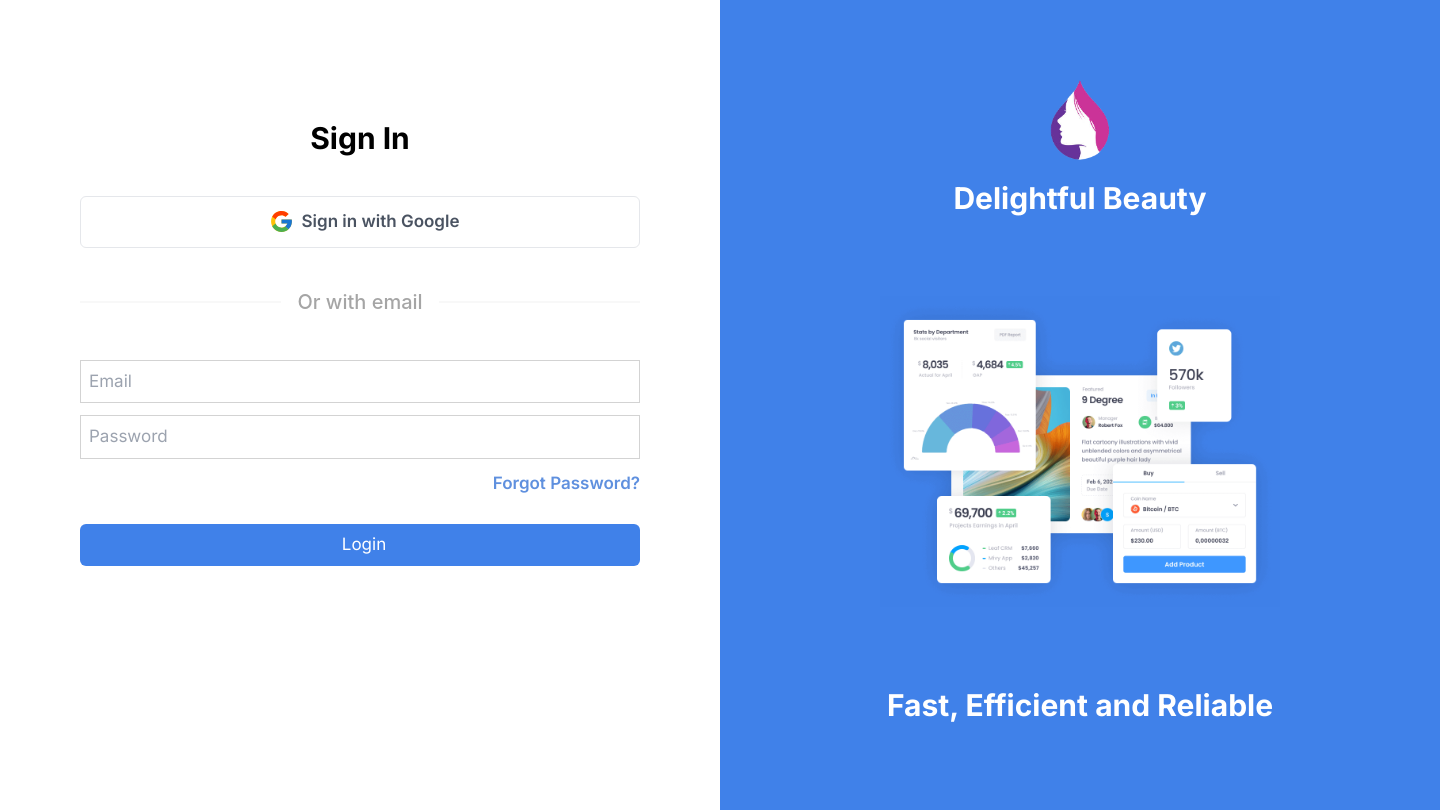
Login › should display empty fields validation errors
The width and height of the screenshot is (1440, 810).
Click the button "Login" at (360, 545), box [80,524,640,566]
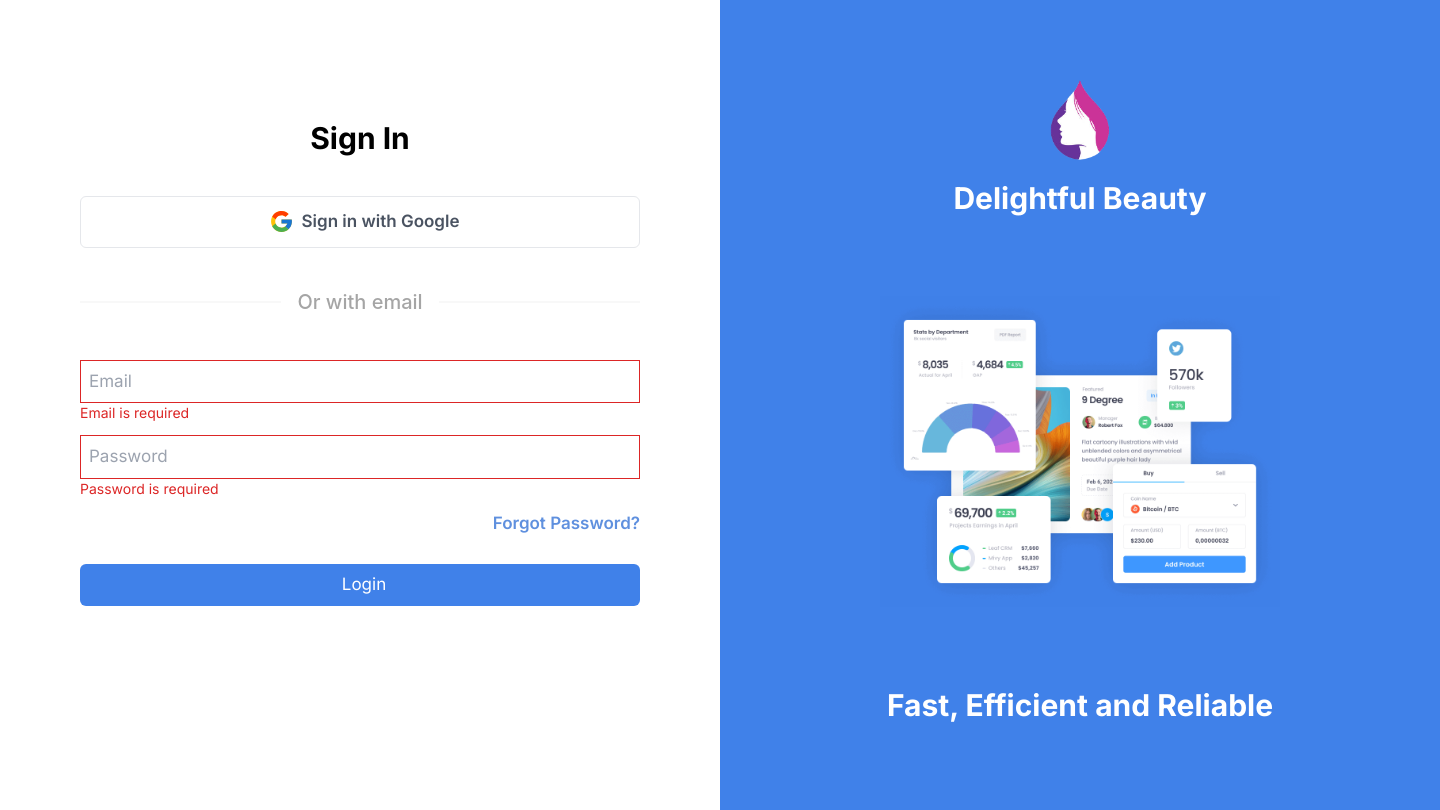
Now the text "Email is required" is shown, box [80,404,189,421]
Now the text "Password is required" is shown, box [80,480,219,496]
